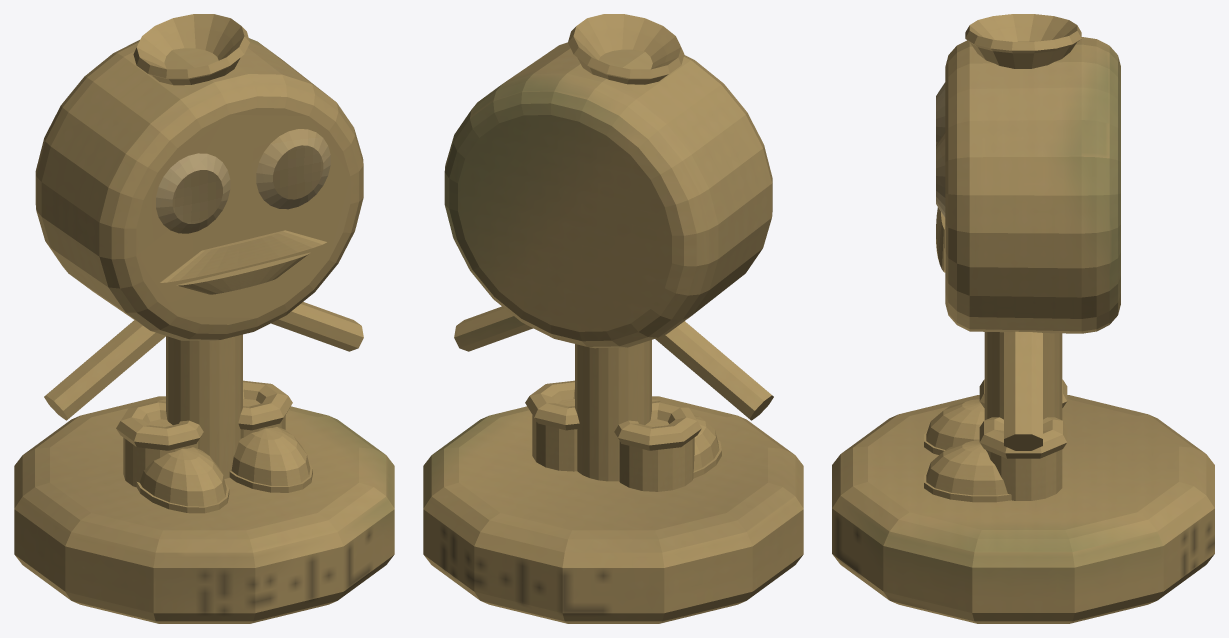
Rendered from item-ancient-pukifact.glb.
3 renders of one model, left to right at view 1: azimuth 30°, elevation 25°; view 2: azimuth 150°, elevation 25°; view 3: azimuth 270°, elevation 25°, orthographic.
Size of the model in its own units: 1.23 by 1.87 by 1.23.
Materials: 3 (3 with a texture image).
